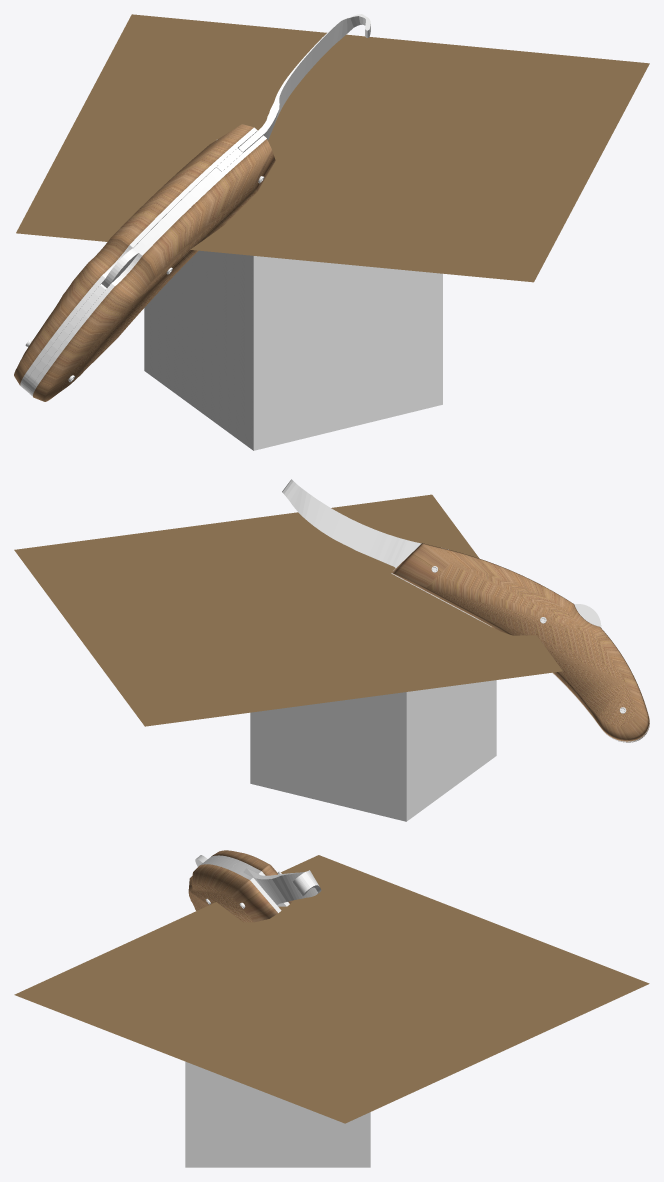
File: froggy.glb
3 views of the same model, one above another, from view 1: azimuth 30°, elevation 25°; view 2: azimuth 150°, elevation 25°; view 3: azimuth 270°, elevation 25° (orthographic). The views are drawn at different scales.
Visible parts, largest first — view 1: Plane.002, Cube, Curve.015, Curve.014, Curve.023, plaquette back.002, plaquette top.002, ressort.002, big int.002; view 2: Plane.002, Cube, Curve.014, Curve.023; view 3: Plane.002, Cube, Curve.015, Curve.023, Curve.014.
Boxes of the visible parts, x1,y1,x2,y2 form: Plane.002: (16,14,649,282); Cube: (144,250,442,450); Curve.015: (33,139,275,401); Curve.014: (14,124,253,385); Curve.023: (238,14,370,152); plaquette back.002: (29,135,267,396); plaquette top.002: (20,127,257,388); ressort.002: (102,167,221,287); big int.002: (24,284,106,393); Plane.002: (14,494,562,726); Cube: (250,680,496,821); Curve.014: (391,543,649,741); Curve.023: (282,479,448,567); Plane.002: (14,855,649,1123); Cube: (185,1061,370,1167); Curve.015: (188,864,277,922); Curve.023: (243,868,321,904); Curve.014: (211,850,292,903).
Size of the model in its own units: 19.09 by 8.92 by 17.71.
7 materials, 1 textured.
